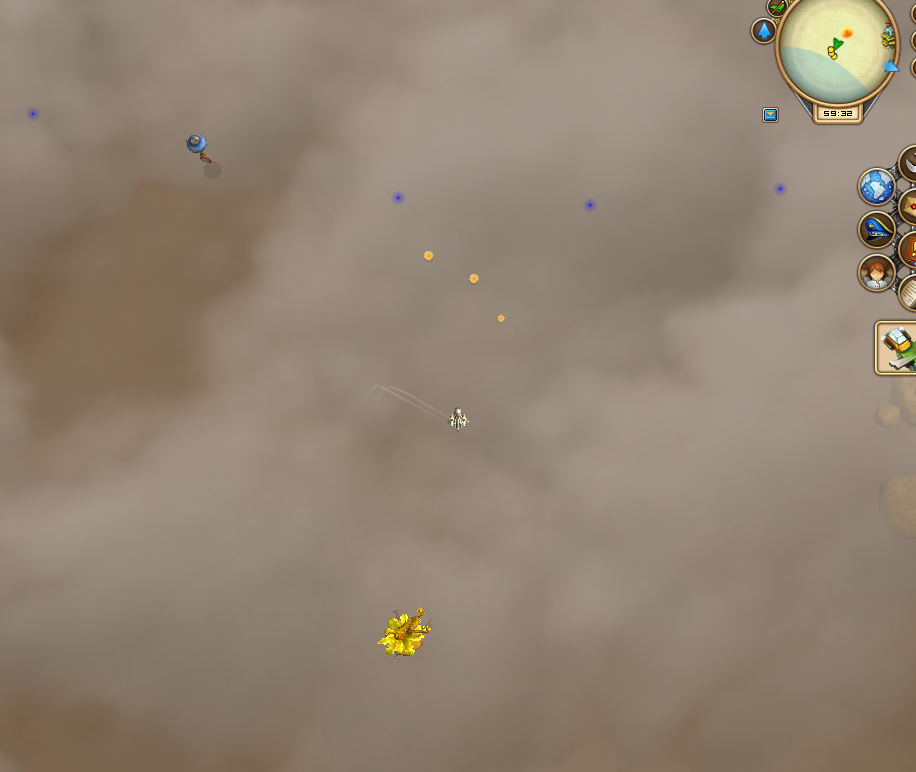dandelion-empty: (372, 604, 437, 662)
fluff: (419, 245, 438, 268), (465, 270, 483, 288), (492, 310, 510, 327)
